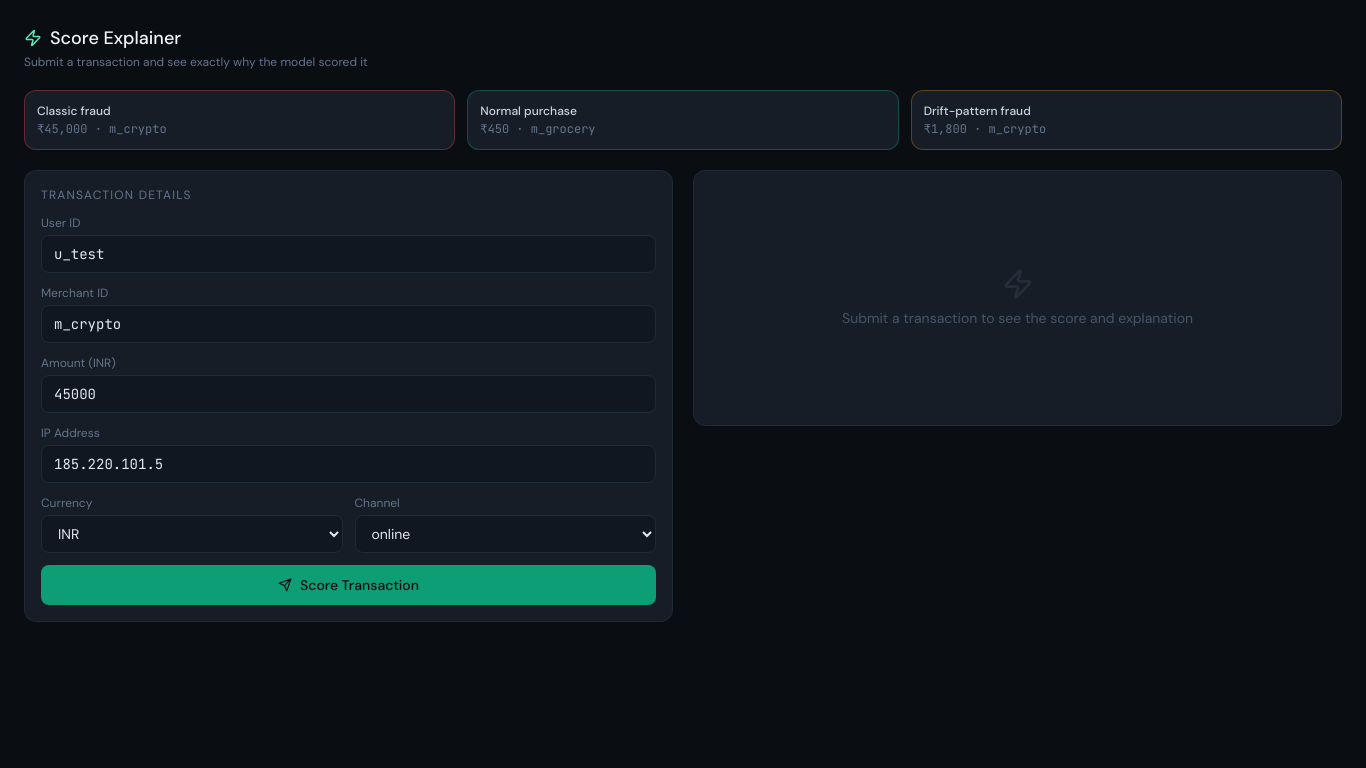
Test case: ScoreExplainer › shows fraud probability after successful score
Click the button "Score Transaction".
click(348, 585)  # box 41,565 -> 656,605
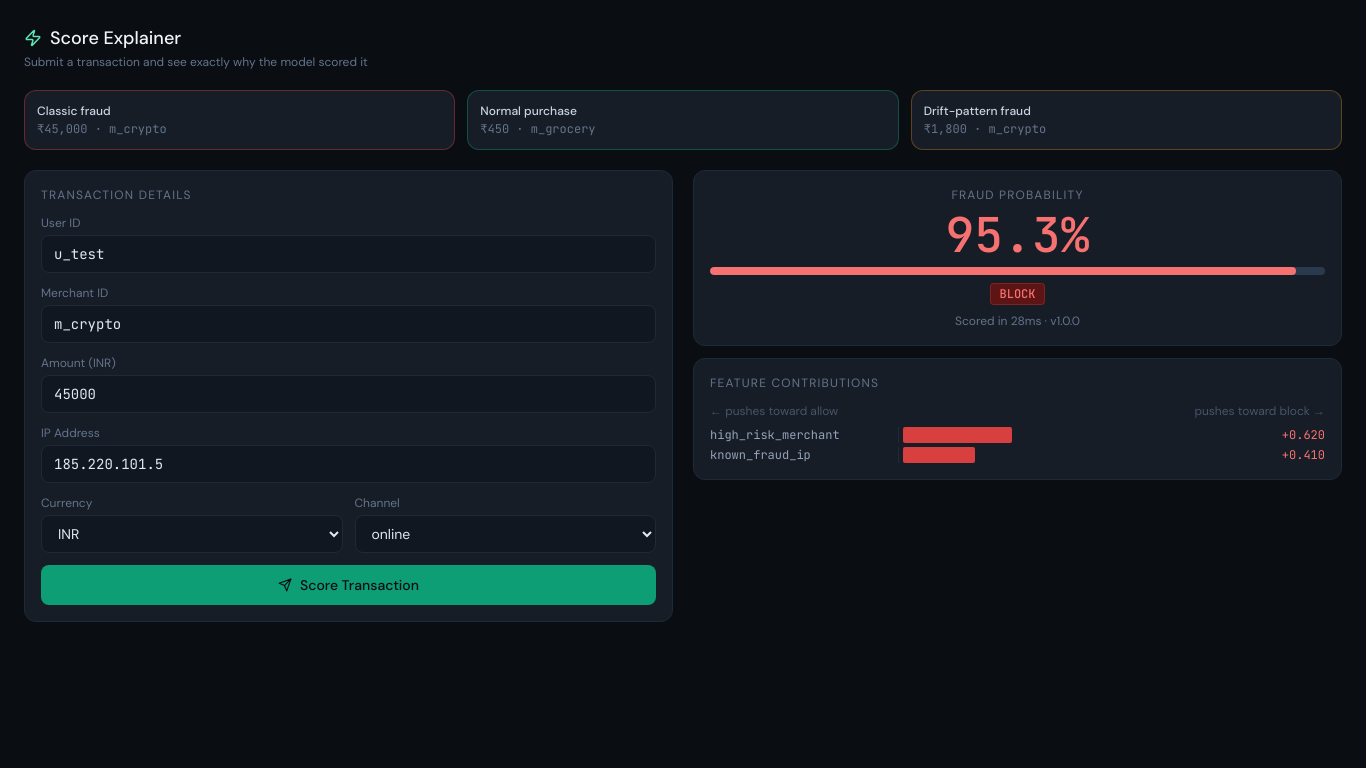
Check: the text "Fraud probability" is shown, box 951,187 -> 1084,203
Check: the text "95.3%" is shown, box 946,203 -> 1090,266
